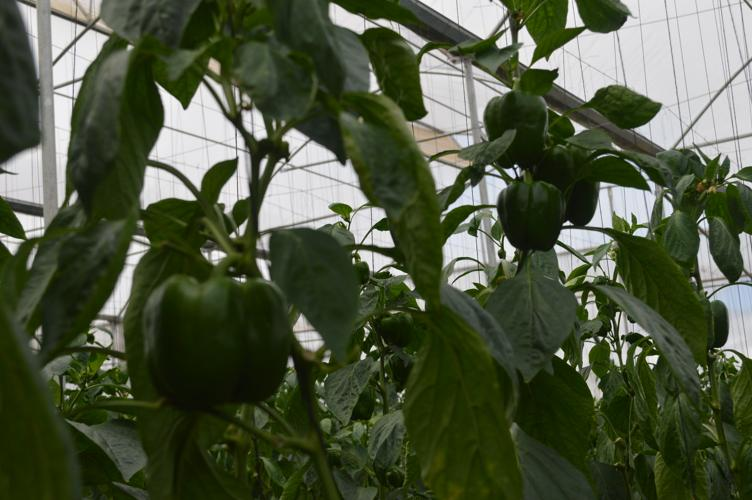BellPepper: (140, 276, 291, 406), (480, 89, 550, 166), (545, 144, 604, 232), (498, 179, 560, 254)
